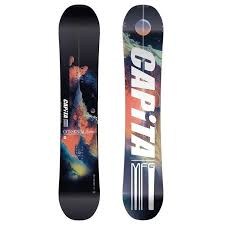snowboard: (120, 3, 165, 221), (59, 4, 103, 219)
